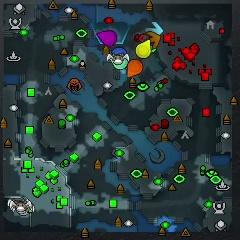p1: (111, 47, 127, 56)
p2: (110, 57, 128, 70)
p3: (97, 30, 117, 46)
p4: (136, 40, 151, 58)
p5: (126, 59, 143, 77)
x3: (146, 21, 164, 35)
x5: (146, 31, 160, 48)
